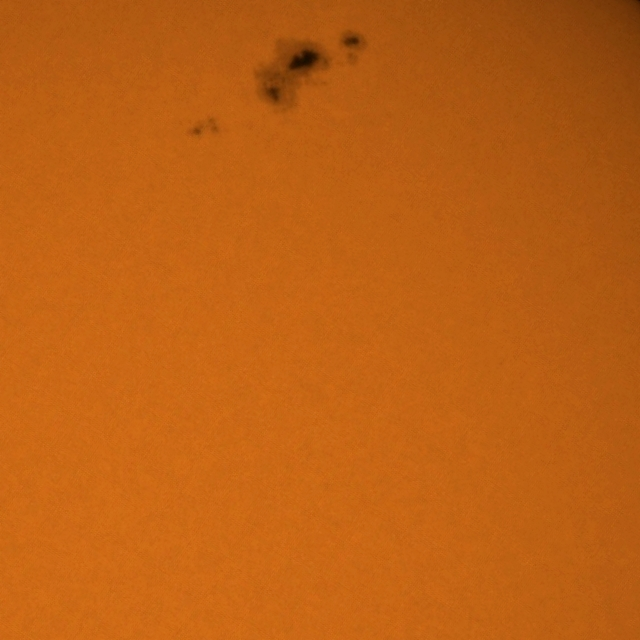sunspot: (179, 115, 220, 140), (338, 29, 364, 65)
